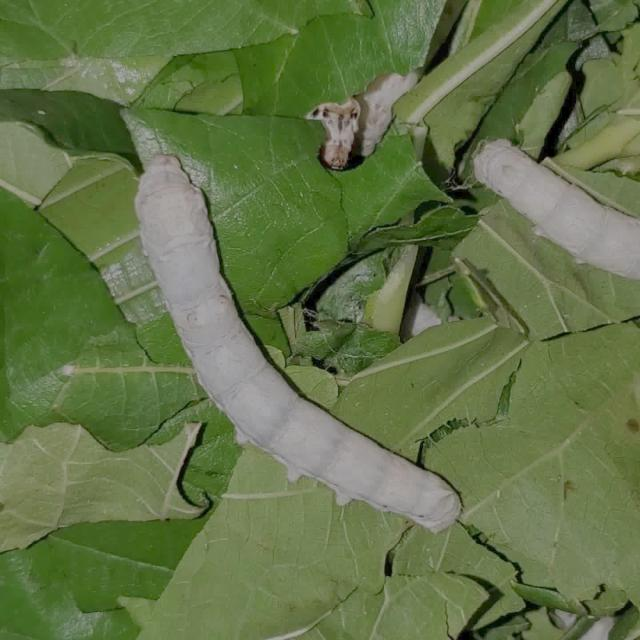Healthy: (128, 144, 469, 546)
